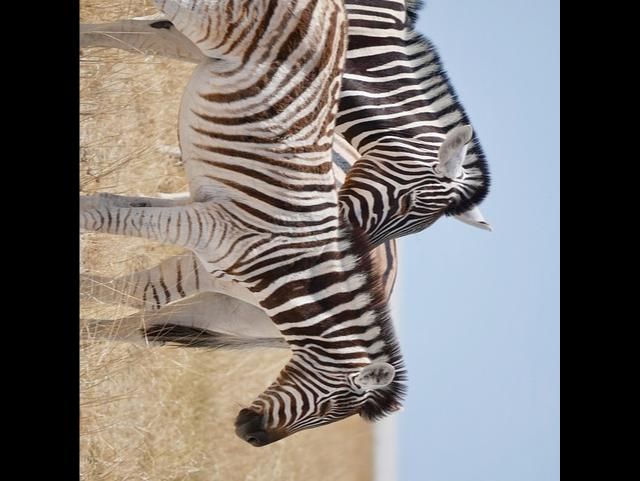Non_Gorille: (93, 0, 516, 475)
